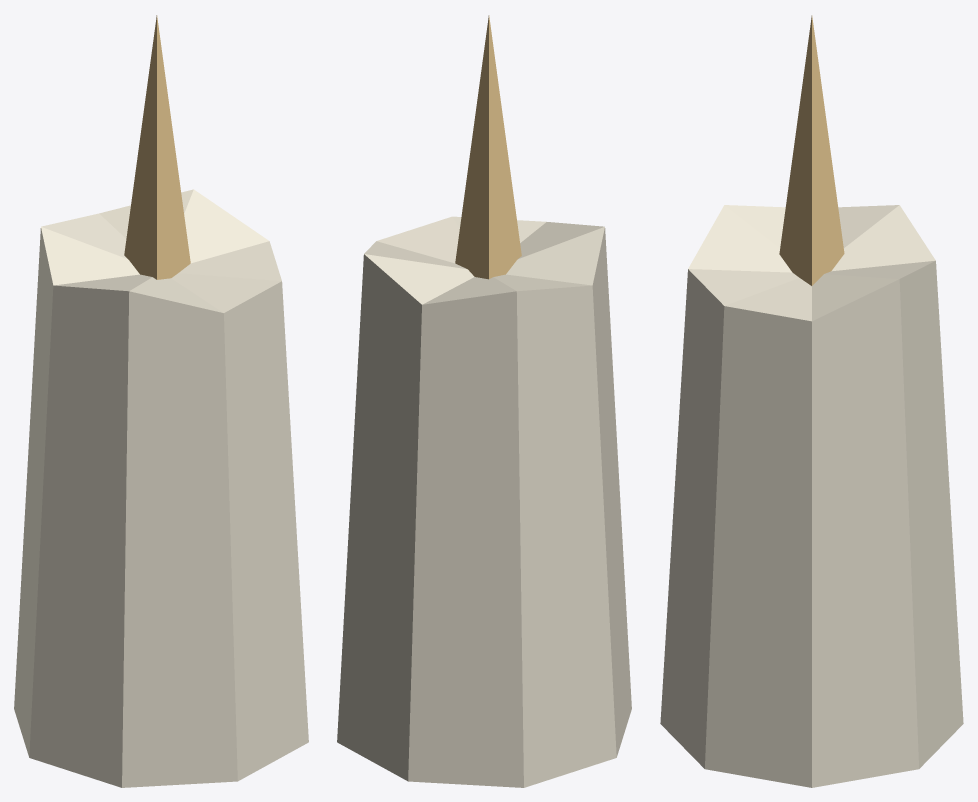
Rendered from Candle_1.fbx.
3 renders of one model, left to right at view 1: azimuth 30°, elevation 25°; view 2: azimuth 150°, elevation 25°; view 3: azimuth 270°, elevation 25°, orthographic.
Parts seen in each view (by area): view 1: polySurface1502; view 2: polySurface1502; view 3: polySurface1502.
Boxes of the visible parts, x1,y1,x2,y2 form: polySurface1502: [14, 15, 308, 787]; polySurface1502: [337, 15, 631, 787]; polySurface1502: [660, 15, 963, 787].
Size of the model in its own units: 12.56 by 32.34 by 12.56.
